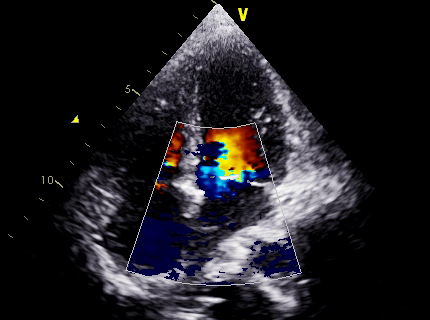MR: (199, 122, 267, 205)
